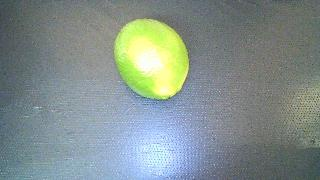EXPORTACION: (114, 19, 189, 99)
